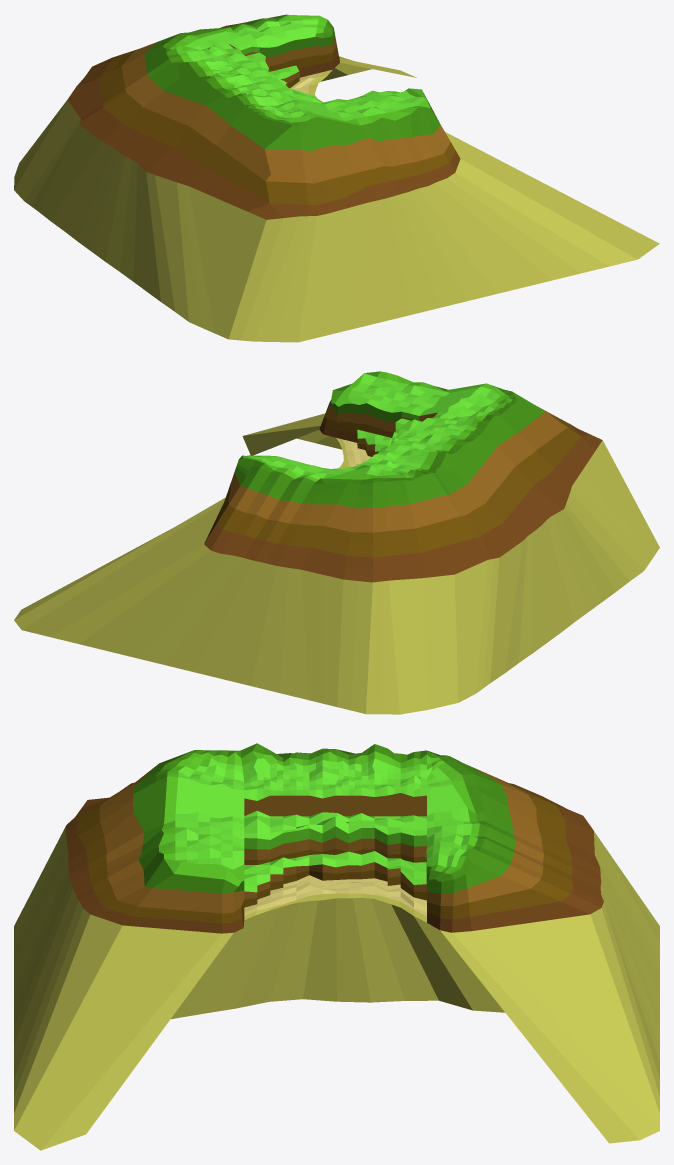
File: Ilha1.fbx
3 views of the same model, one above another, from view 1: azimuth 30°, elevation 25°; view 2: azimuth 150°, elevation 25°; view 3: azimuth 270°, elevation 25° (orthographic). The views are drawn at different scales.
Parts seen in each view (by area): view 1: Ilha; view 2: Ilha; view 3: Ilha.
Part boxes in pixels (x1,y1,x2,y2): Ilha: (14,14,659,342); Ilha: (14,371,659,714); Ilha: (14,743,659,1150).
Bounding box in the file's own units: 108957 × 39770 × 113560.
